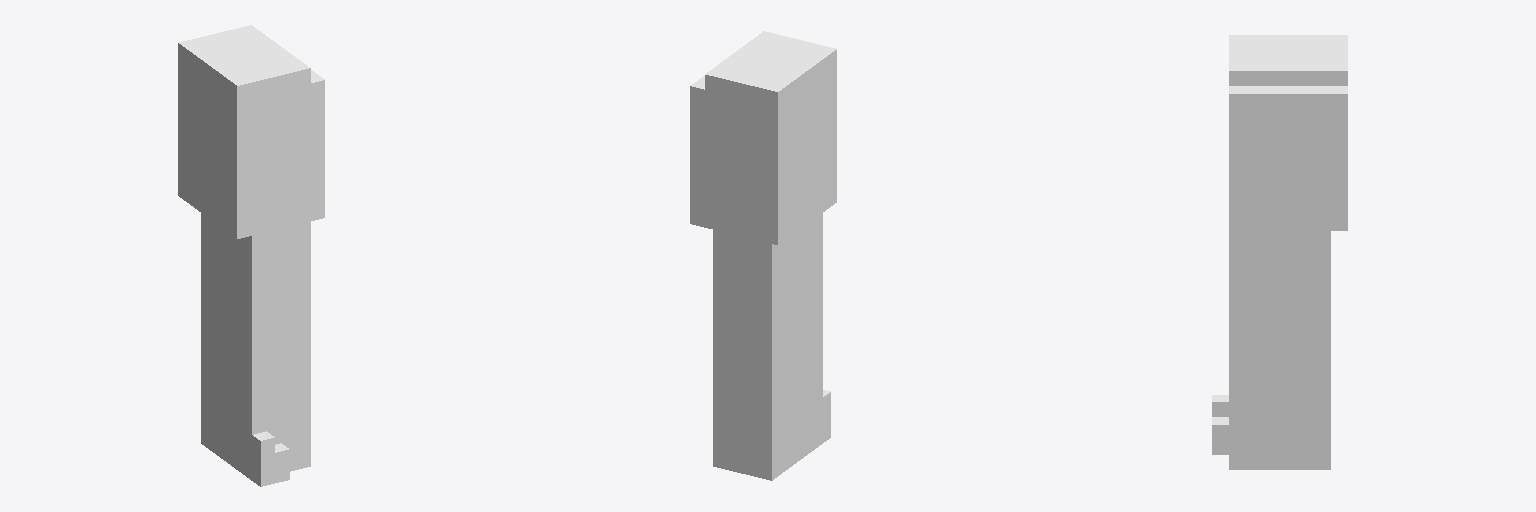
The model's file is Girl-0.obj.
3 renders of one model, left to right at view 1: azimuth 30°, elevation 25°; view 2: azimuth 150°, elevation 25°; view 3: azimuth 270°, elevation 25°, orthographic.
Parts seen in each view (by area): view 1: object 1; view 2: object 1; view 3: object 1.
Boxes of the visible parts, box(x1,y1,x2,y2) form: object 1: box(178, 25, 324, 486); object 1: box(690, 31, 836, 480); object 1: box(1212, 35, 1347, 469).
Size of the model in its own units: 0.6 by 2.6 by 0.8.